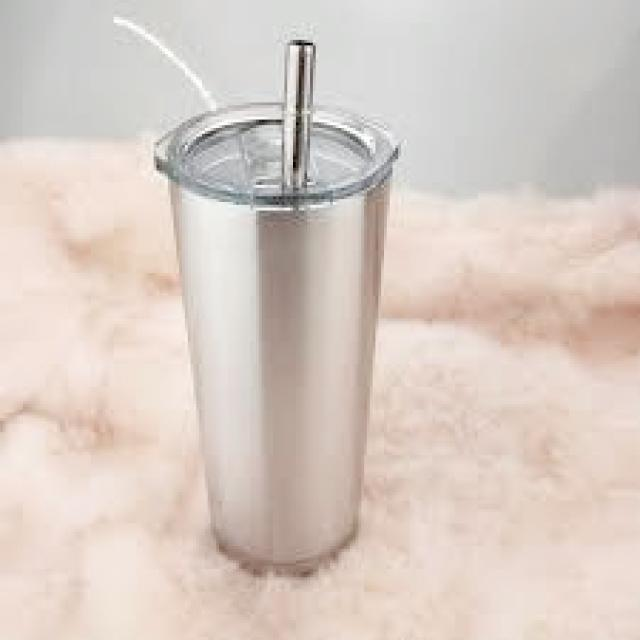bottle: (156, 36, 398, 573)
